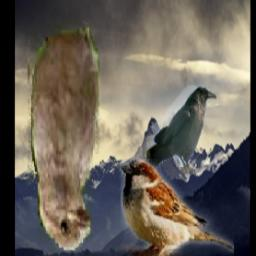Crow: (146, 85, 216, 174)
Sparrow: (28, 0, 99, 252), (122, 159, 235, 256)
